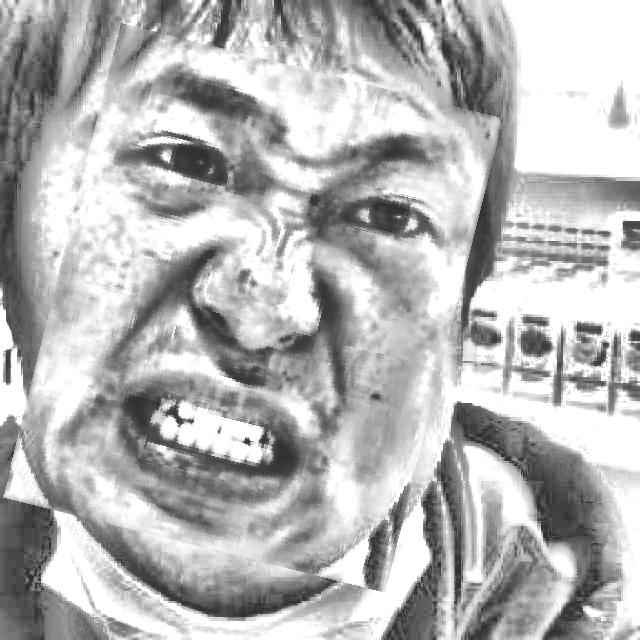angry: (29, 43, 477, 572)
